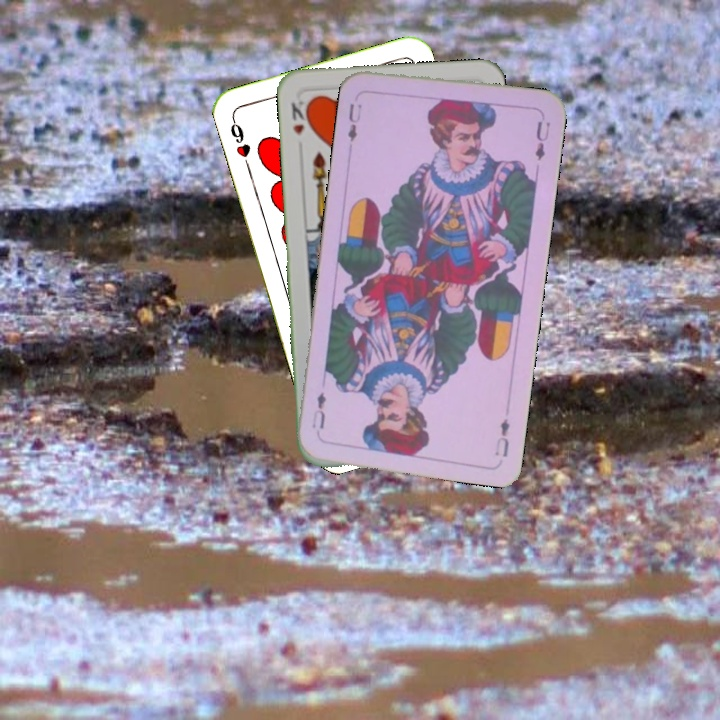EU: (491, 414, 513, 459), (344, 100, 365, 145)
H9: (226, 113, 253, 171)
HK: (286, 97, 313, 138)
